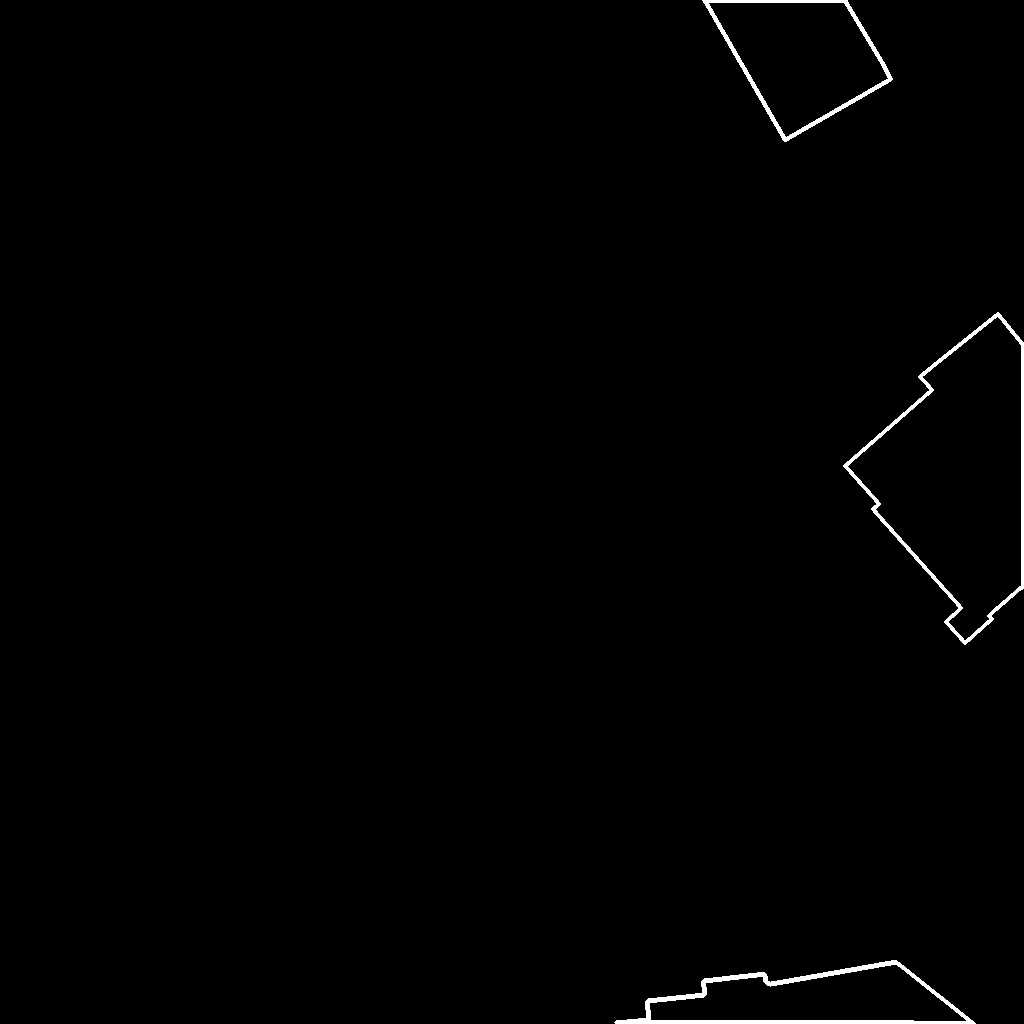building: (845, 314, 1024, 644), (704, 0, 892, 141), (611, 962, 975, 1024)
